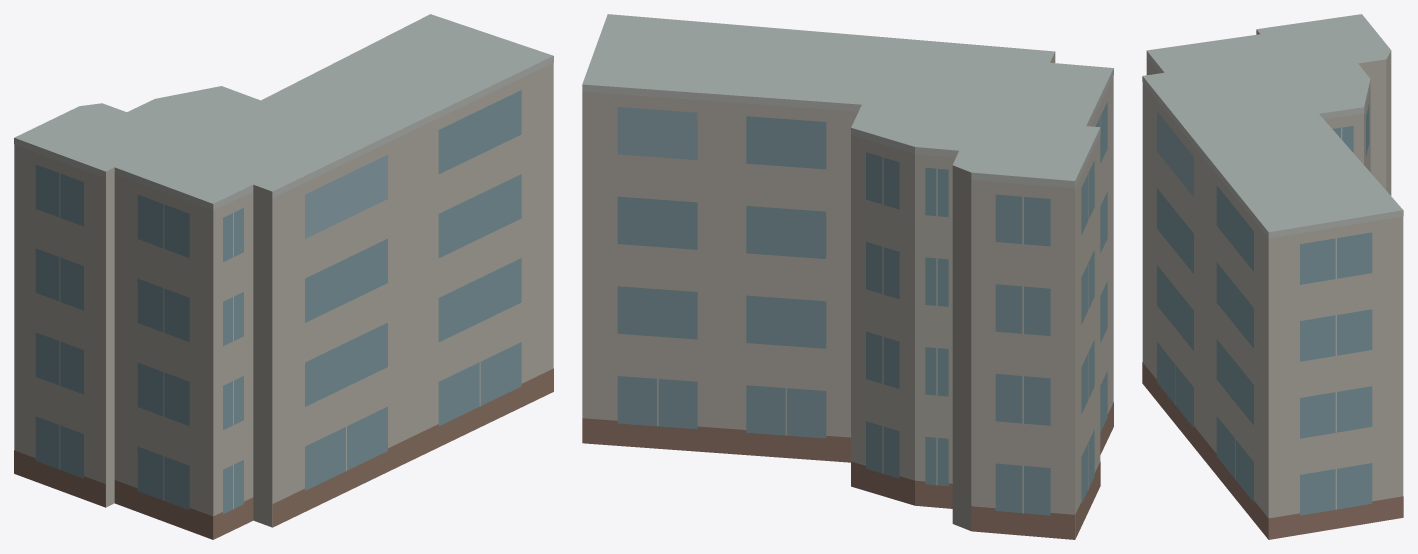
The model's file is survey-upis-32783086.glb.
3 renders of one model, left to right at view 1: azimuth 30°, elevation 25°; view 2: azimuth 150°, elevation 25°; view 3: azimuth 270°, elevation 25°, orthographic. The views are drawn at different scales.
Visible parts, largest first — view 1: survey-upis-32783086.tmp; view 2: survey-upis-32783086.tmp; view 3: survey-upis-32783086.tmp.
Boxes of the visible parts, x1,y1,x2,y2 form: survey-upis-32783086.tmp: [14, 14, 553, 539]; survey-upis-32783086.tmp: [582, 14, 1113, 539]; survey-upis-32783086.tmp: [1142, 14, 1403, 539].
Size of the model in its own units: 18.58 by 12.2 by 9.39.
